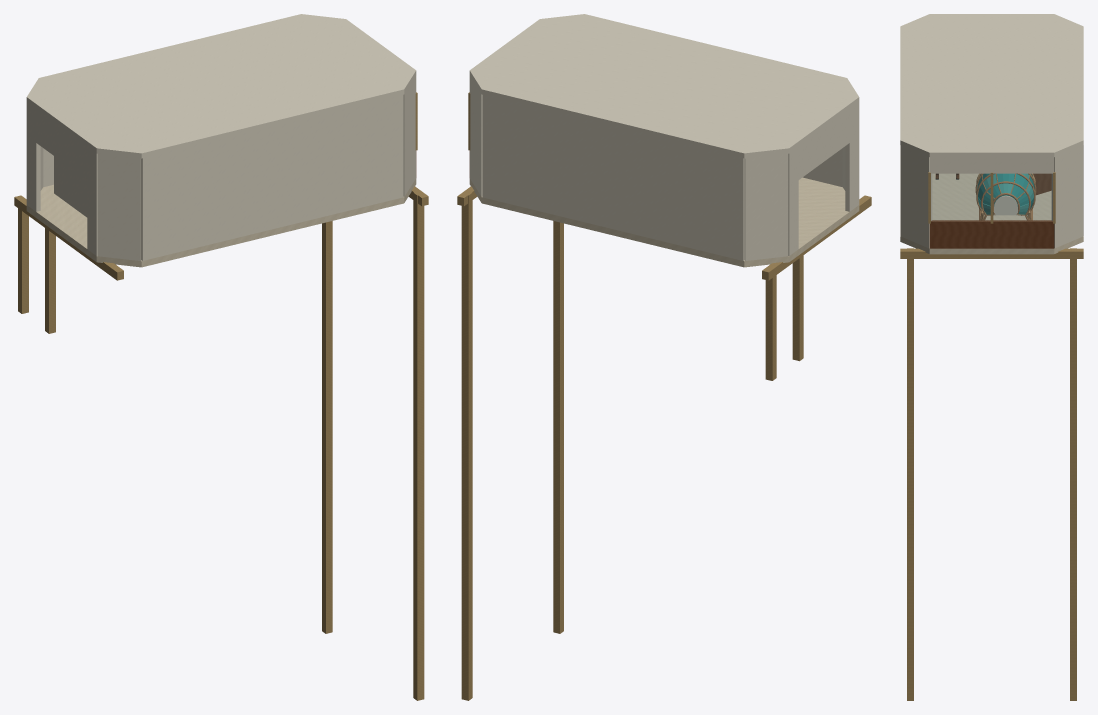
Rendered from D04_STARBOARD_FORWARD_HOME_955_r001.glb.
The picture shows the model from 3 angles, left to right: view 1: azimuth 30°, elevation 25°; view 2: azimuth 150°, elevation 25°; view 3: azimuth 270°, elevation 25°; orthographic projection. The views are drawn at different scales.
Visible parts, largest first — view 1: D04SH955_Roof, D04SH955_Shell_3, D04SH955_Pier_10, D04SH955_Shell_4, D04SH955_Pier_9, D04SH955_Floor, D04SH955_EntryHeader, D04SH955_EntryWall_0, D04SH955_Shell_2, D04SH955_BathDogleg, D04SH955_Pier_11, D04SH955_EntryWall_1 (+2 smaller); view 2: D04SH955_Roof, D04SH955_Shell_7, D04SH955_Pier_9, D04SH955_Floor, D04SH955_Shell_6, D04SH955_Pier_10, D04SH955_EntryHeader, D04SH955_EntryWall_1, D04SH955_Shell_0, D04SH955_Pier_11, D04SH955_Pier_12, D04SH955_EntryWall_0 (+2 smaller); view 3: D04SH955_Roof, D04SH955_GardenGlass, D04SH955_Floor, D04SH955_GardenDado, D04SH955_Pier_9, D04SH955_Pier_10, D04SH955_Shell_0, D04SH955_Shell_2, D04SH955_GardenHead, D04SH955_Long_-58.650000000000006, D04SH955_ReservedCocoon__Rear ivory acoustic diffuser, D04SH955_QuietWing.
Part boxes in pixels (left/top/right/bottom): D04SH955_Roof: left=26, top=14, right=416, bottom=158; D04SH955_Shell_3: left=141, top=95, right=403, bottom=260; D04SH955_Pier_10: left=413, top=192, right=424, bottom=700; D04SH955_Shell_4: left=97, top=153, right=141, bottom=260; D04SH955_Pier_9: left=322, top=221, right=332, bottom=633; D04SH955_Floor: left=26, top=178, right=416, bottom=267; D04SH955_EntryHeader: left=36, top=109, right=87, bottom=179; D04SH955_EntryWall_0: left=26, top=102, right=40, bottom=211; D04SH955_Shell_2: left=403, top=76, right=415, bottom=196; D04SH955_BathDogleg: left=54, top=156, right=87, bottom=217; D04SH955_Pier_11: left=18, top=198, right=28, bottom=313; D04SH955_EntryWall_1: left=87, top=147, right=97, bottom=255; D04SH955_Roof: left=469, top=14, right=859, bottom=158; D04SH955_Shell_7: left=482, top=95, right=744, bottom=260; D04SH955_Pier_9: left=461, top=191, right=472, bottom=700; D04SH955_Floor: left=469, top=177, right=859, bottom=267; D04SH955_Shell_6: left=744, top=153, right=788, bottom=260; D04SH955_Pier_10: left=553, top=221, right=563, bottom=633; D04SH955_EntryHeader: left=798, top=109, right=849, bottom=179; D04SH955_EntryWall_1: left=845, top=102, right=859, bottom=211; D04SH955_Shell_0: left=470, top=76, right=482, bottom=196; D04SH955_Pier_11: left=765, top=265, right=776, bottom=380; D04SH955_Pier_12: left=792, top=253, right=803, bottom=361; D04SH955_EntryWall_0: left=788, top=147, right=798, bottom=255; D04SH955_Roof: left=900, top=14, right=1083, bottom=157; D04SH955_GardenGlass: left=932, top=174, right=1052, bottom=221; D04SH955_Floor: left=900, top=173, right=1083, bottom=254; D04SH955_GardenDado: left=929, top=220, right=1054, bottom=248; D04SH955_Pier_9: left=1070, top=248, right=1076, bottom=700; D04SH955_Pier_10: left=907, top=248, right=913, bottom=700; D04SH955_Shell_0: left=1051, top=145, right=1082, bottom=248; D04SH955_Shell_2: left=901, top=145, right=932, bottom=248; D04SH955_GardenHead: left=929, top=157, right=1054, bottom=173; D04SH955_Long_-58.650000000000006: left=900, top=248, right=1083, bottom=258; D04SH955_ReservedCocoon__Rear ivory acoustic diffuser: left=994, top=195, right=1017, bottom=215; D04SH955_QuietWing: left=1033, top=173, right=1051, bottom=195.
Size of the model in its own units: 12.92 by 23.86 by 7.2.
36 materials, 21 textured.
